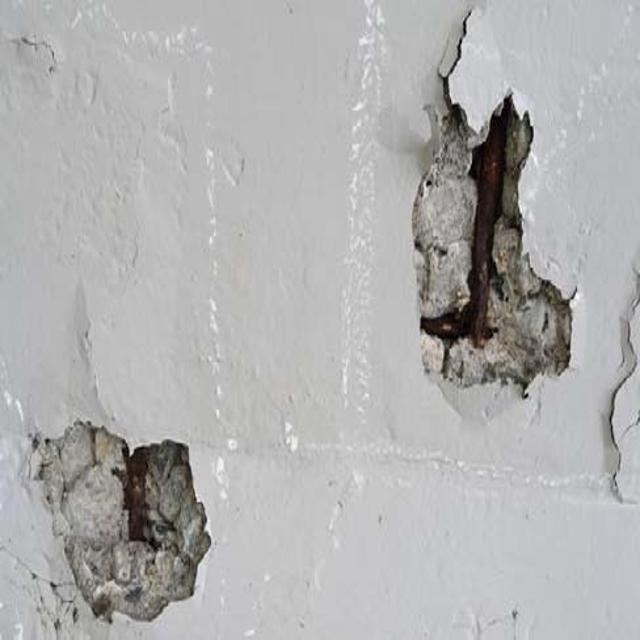spalling: (403, 19, 591, 460), (19, 387, 230, 640)
